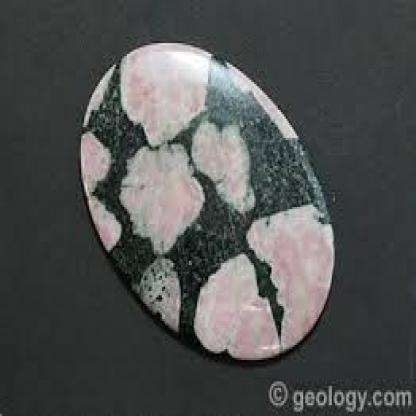Igneous_Diorite: (73, 28, 338, 364)
